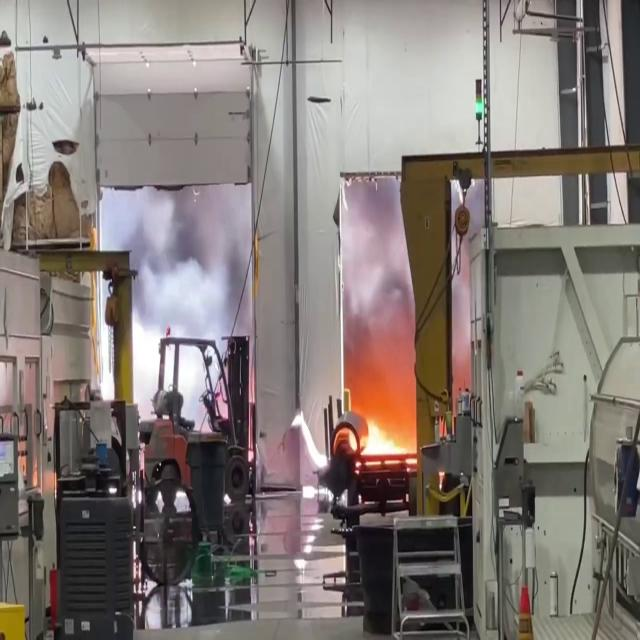Fire: (345, 400, 415, 470)
Smoke: (104, 187, 254, 413), (332, 189, 421, 393)
